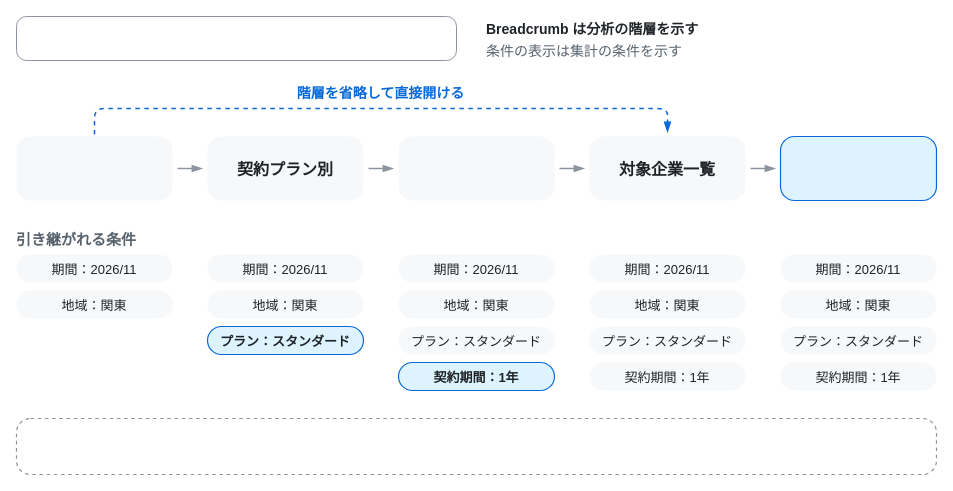
Image size: 953x491. Some labels were removed from this diagram. Each missing label, with the box of its shape:
事業全体: (16, 136, 172, 200)
個別企業の詳細: (779, 135, 937, 201)
契約期間別: (398, 136, 554, 200)
比較期間側のデータ点から開いた場合は、その系列の期間を引き継ぐ: (15, 417, 937, 475)
顧客維持分析 / スタンダード / 1年 / 企業一覧: (16, 16, 456, 60)
